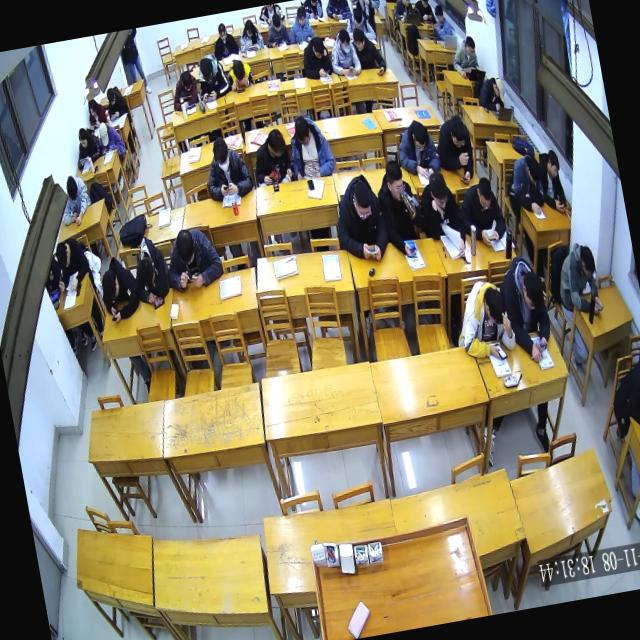bow: (160, 221, 226, 293), (93, 250, 142, 324), (128, 234, 174, 308), (506, 147, 548, 219), (473, 69, 509, 115), (302, 0, 324, 20)
down: (519, 269, 547, 314), (424, 167, 450, 212), (349, 179, 375, 223), (482, 286, 508, 328), (471, 174, 495, 216), (576, 242, 599, 282), (173, 224, 196, 262), (542, 146, 562, 182), (291, 116, 311, 148), (266, 128, 286, 159), (54, 242, 72, 270), (526, 156, 542, 187), (230, 56, 247, 84), (336, 28, 353, 55), (490, 76, 508, 100), (64, 175, 80, 201), (96, 121, 112, 147), (198, 56, 214, 80), (463, 33, 477, 59), (351, 28, 366, 52), (294, 6, 308, 30), (76, 127, 90, 150), (310, 36, 324, 59), (242, 16, 255, 40), (104, 85, 118, 107), (179, 68, 193, 90), (432, 2, 445, 25), (270, 12, 283, 34), (86, 98, 98, 119), (216, 22, 228, 43), (352, 6, 364, 27), (400, 0, 412, 8), (418, 0, 429, 8)
lookup: (381, 158, 408, 204)
sit: (497, 252, 557, 366), (368, 151, 429, 257), (448, 274, 518, 364), (328, 170, 392, 268), (412, 164, 469, 262), (458, 172, 518, 250), (550, 237, 604, 319), (283, 110, 337, 182), (392, 115, 444, 186), (200, 135, 254, 202), (430, 109, 478, 182), (604, 351, 640, 445), (48, 232, 96, 292), (247, 123, 294, 184), (54, 168, 94, 224), (348, 19, 388, 75), (534, 146, 566, 209), (326, 26, 362, 79), (192, 50, 230, 99), (298, 32, 334, 80), (448, 32, 481, 80), (167, 66, 200, 110), (70, 124, 102, 167), (342, 3, 377, 42), (284, 5, 316, 46), (94, 118, 126, 158), (208, 20, 240, 60), (261, 11, 291, 49), (103, 82, 130, 121), (222, 54, 254, 86), (236, 18, 266, 52), (427, 2, 452, 41), (85, 96, 108, 128), (256, 2, 284, 26), (324, 0, 353, 22), (391, 0, 415, 25), (411, 0, 435, 23)
